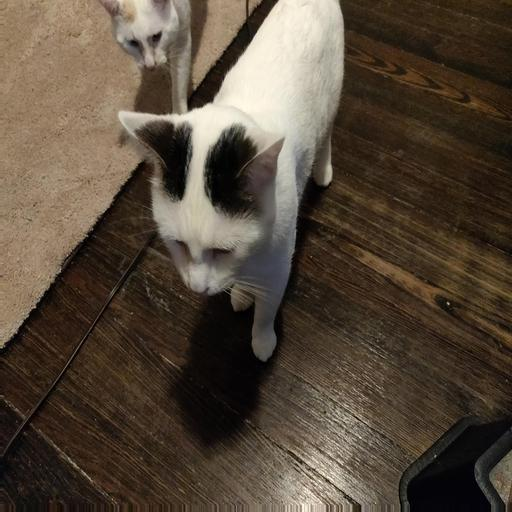cat: (81, 44, 366, 329)
